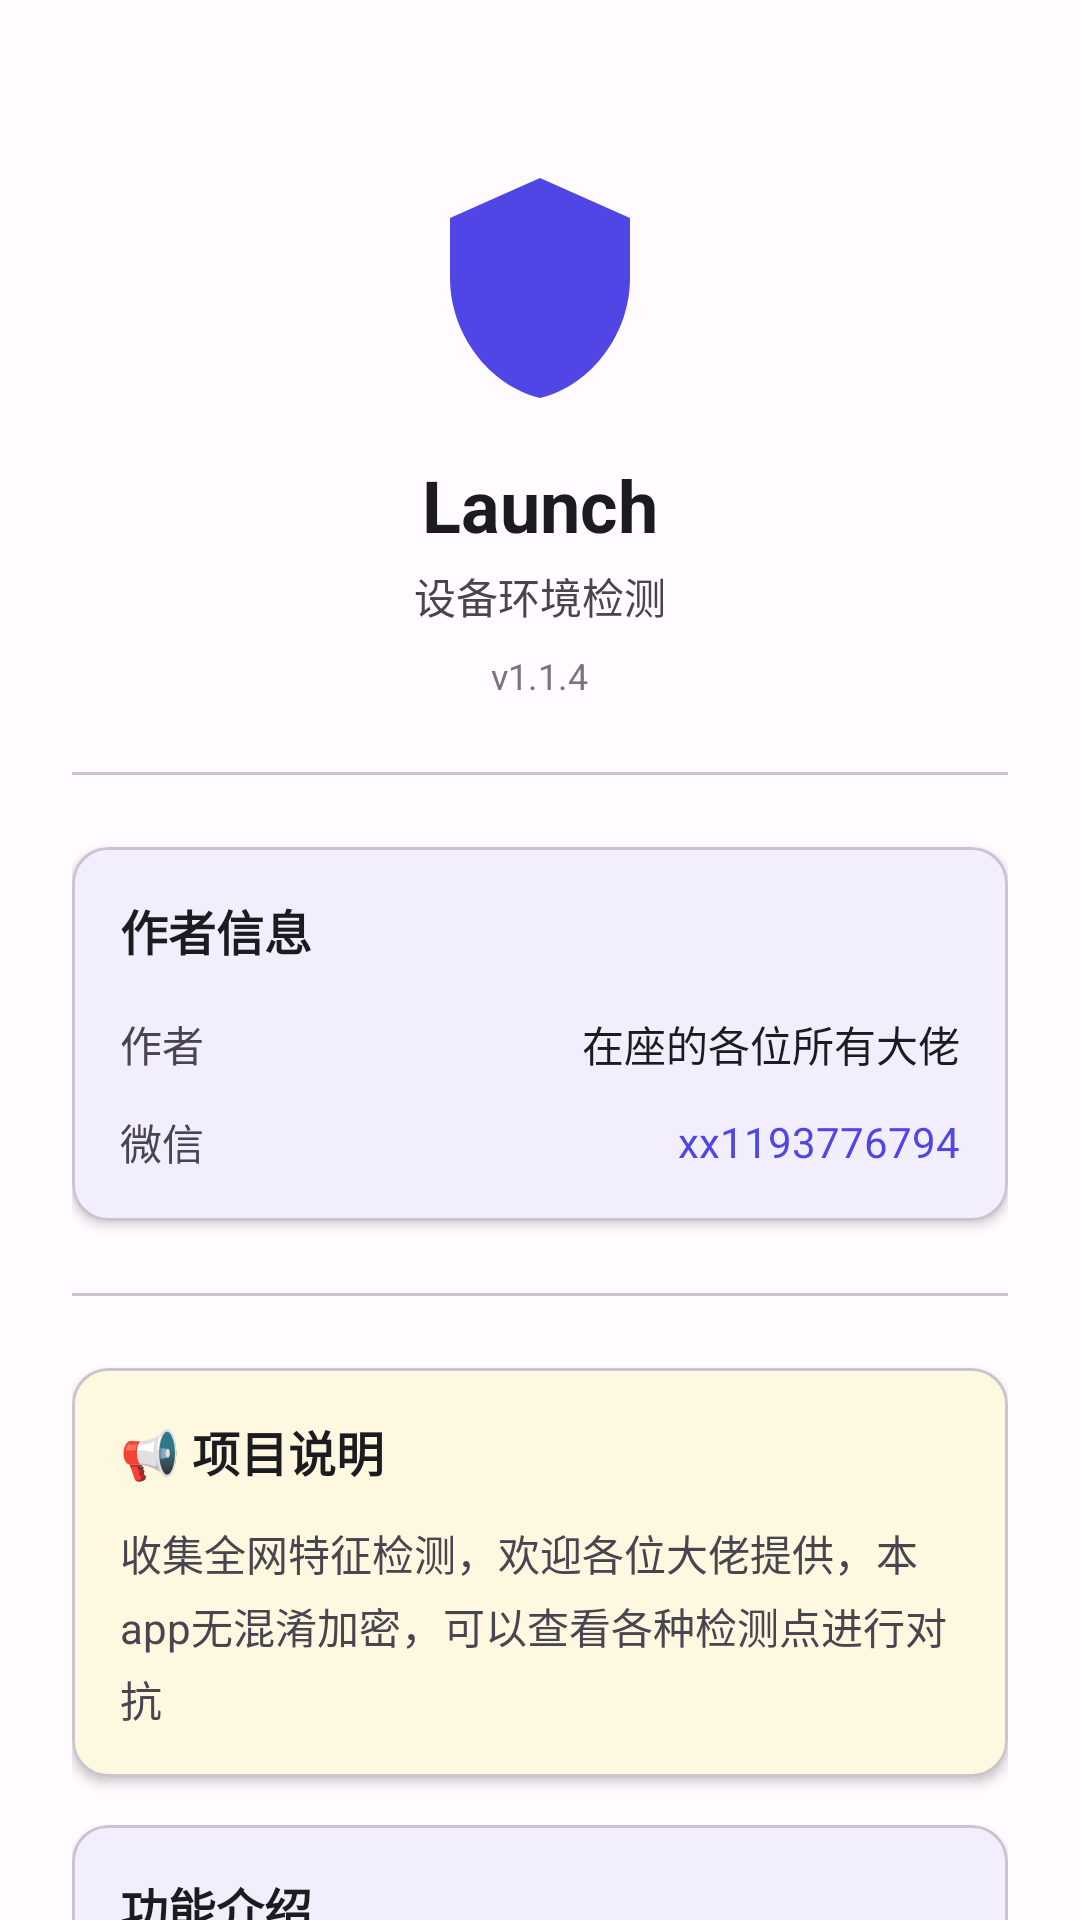

Icons on this 1080*1920 Android screen, each with its box as (x1=x1, y1=y1, x2=x2, y2=y2):
shield: (x1=450, y1=178, x2=630, y2=398)
